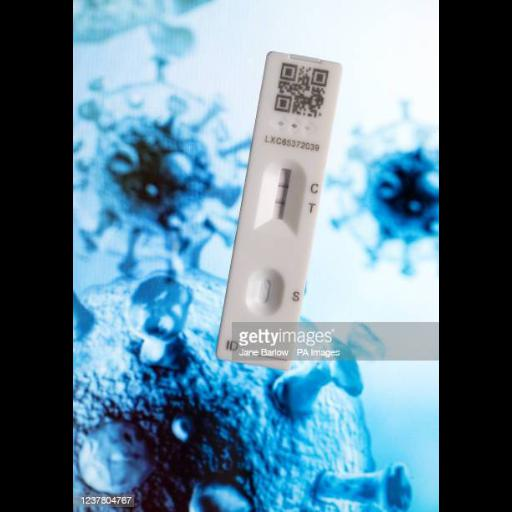Pos: (214, 51, 341, 373)
